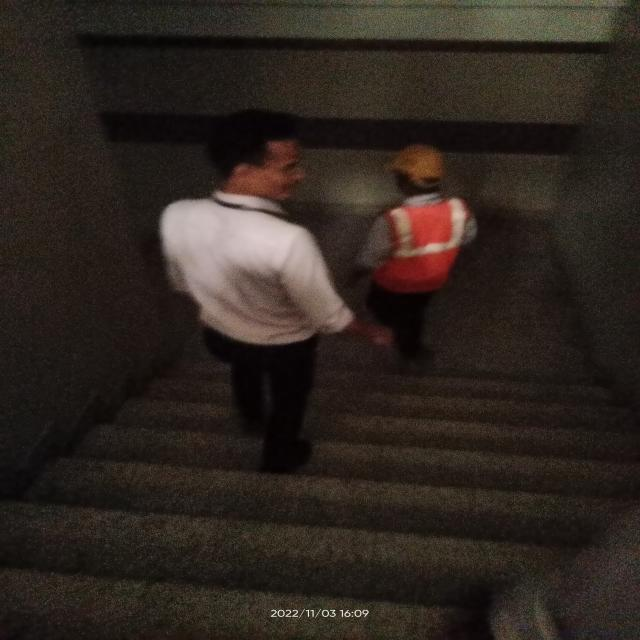safe: (358, 144, 483, 360)
unsafe: (152, 104, 362, 491)
